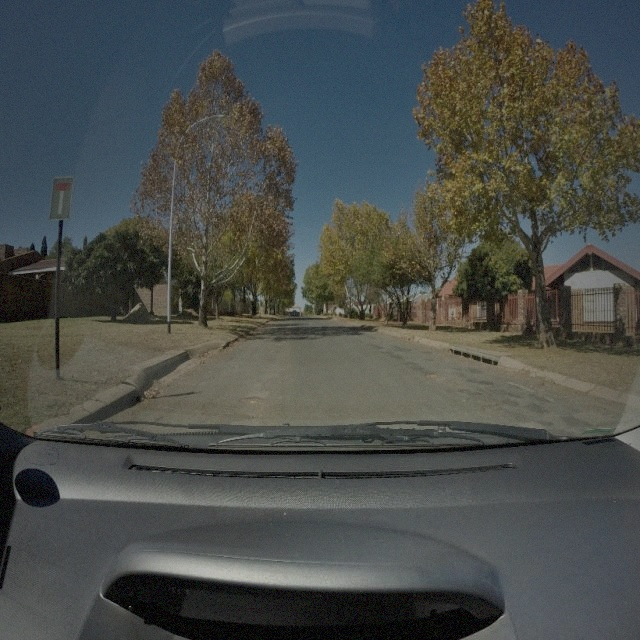pothole: (237, 392, 266, 407), (424, 371, 435, 378)
